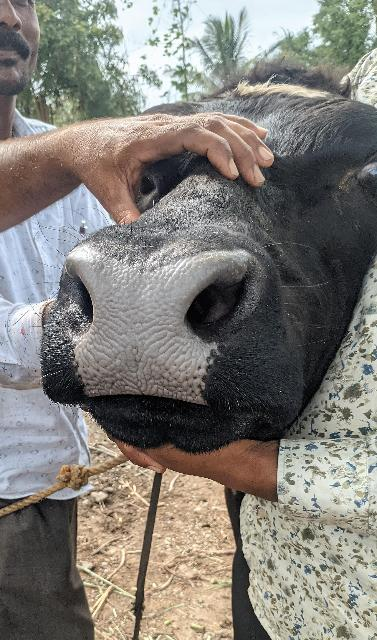Muzzle: (88, 263, 186, 393)
